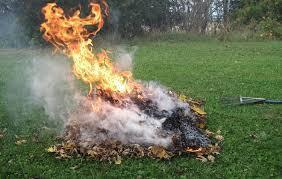fire: (38, 0, 147, 99)
